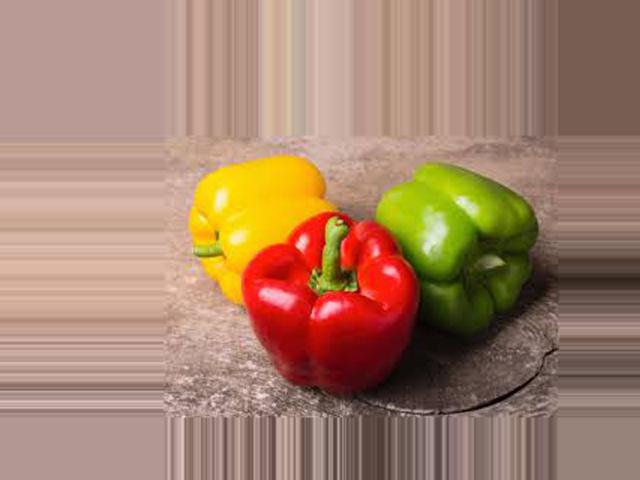bell_pepper: (189, 148, 326, 305)
